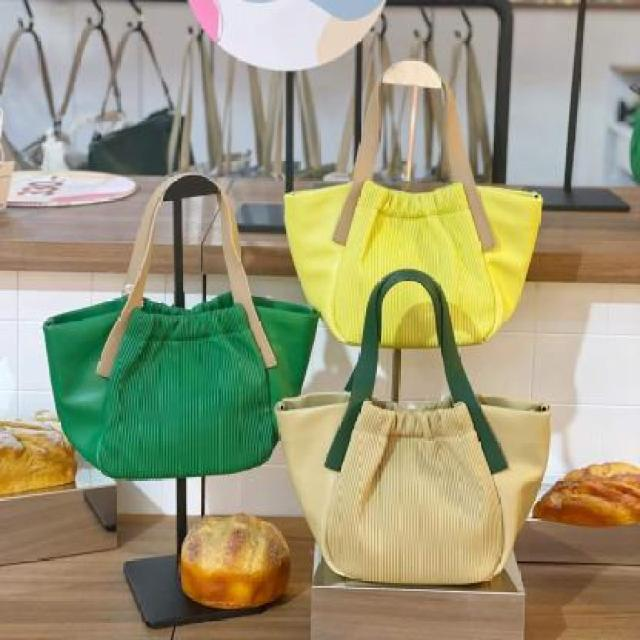Bag: (233, 236, 579, 592), (248, 36, 570, 372), (26, 157, 312, 494)
